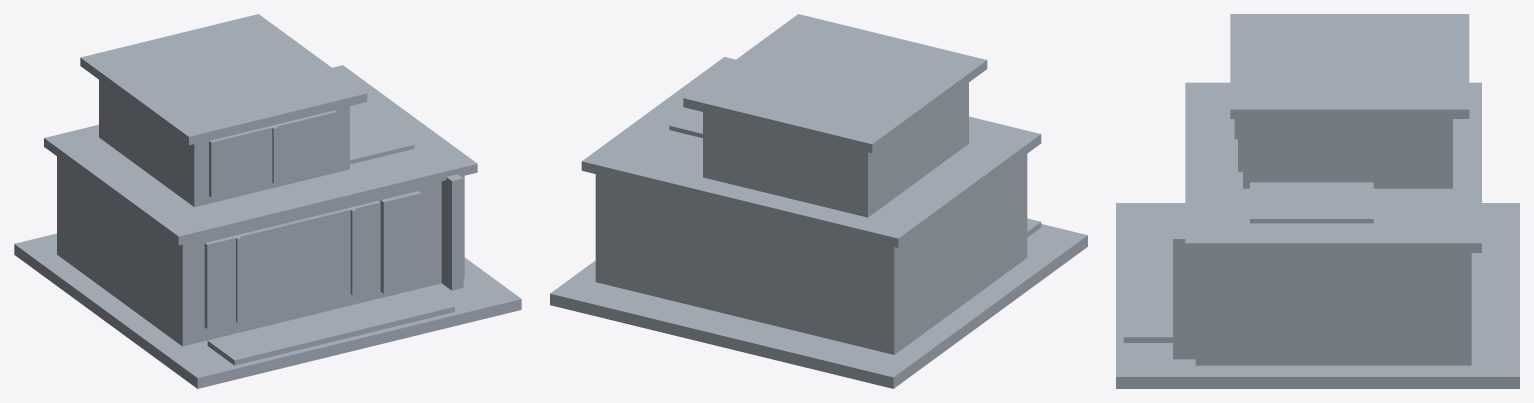
Rendered from modern.glb.
3 renders of one model, left to right at view 1: azimuth 30°, elevation 25°; view 2: azimuth 150°, elevation 25°; view 3: azimuth 270°, elevation 25°, orthographic. The views are drawn at different scales.
Visible parts, largest first — view 1: modern-stone-4, modern-plaster-2, modern-stone-5, modern-glass-7, modern-stone-1, modern-plaster-3, modern-stone-13, modern-glass-9, modern-cedar-8, modern-plaster-6, modern-glass-14, modern-trim-12 (+1 smaller); view 2: modern-plaster-2, modern-stone-4, modern-stone-5, modern-stone-1, modern-plaster-3, modern-glass-14; view 3: modern-plaster-2, modern-stone-4, modern-stone-5, modern-stone-1, modern-plaster-3, modern-stone-13, modern-glass-14, modern-plaster-6.
Boxes of the visible parts, box(x1,y1,x2,y2) form: modern-stone-4: box(80, 14, 367, 145); modern-plaster-2: box(57, 156, 464, 346); modern-stone-5: box(44, 65, 477, 245); modern-glass-7: box(204, 201, 380, 328); modern-stone-1: box(14, 233, 521, 388); modern-plaster-3: box(99, 80, 349, 207); modern-stone-13: box(207, 287, 454, 365); modern-glass-9: box(209, 110, 336, 197); modern-cedar-8: box(380, 191, 420, 293); modern-plaster-6: box(441, 174, 463, 290); modern-glass-14: box(350, 104, 414, 164); modern-trim-12: box(350, 208, 355, 294); modern-plaster-2: box(595, 154, 1027, 354); modern-stone-4: box(683, 14, 987, 152); modern-stone-5: box(581, 57, 1041, 247); modern-stone-1: box(550, 224, 1087, 388); modern-plaster-3: box(703, 83, 968, 217); modern-glass-14: box(669, 109, 702, 137); modern-plaster-2: box(1195, 253, 1471, 365); modern-stone-4: box(1230, 14, 1469, 118); modern-stone-5: box(1185, 82, 1481, 252); modern-stone-1: box(1116, 203, 1519, 388); modern-plaster-3: box(1243, 119, 1452, 188); modern-stone-13: box(1123, 219, 1183, 342); modern-glass-14: box(1250, 182, 1373, 223); modern-plaster-6: box(1173, 232, 1195, 359).
Size of the model in its own units: 10 by 6 by 9.8.
